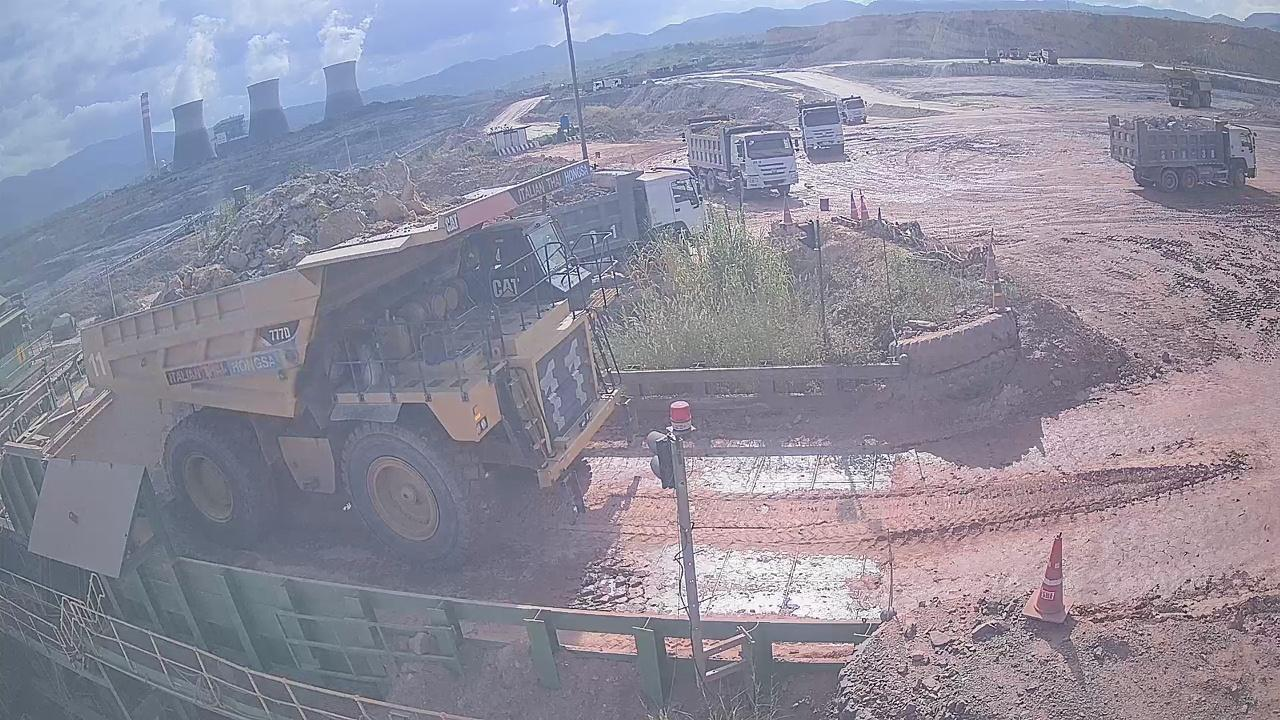company: (158, 350, 286, 384)
dumping_soil: (74, 150, 631, 577)
front_number: (536, 314, 600, 447)
full_load: (126, 157, 441, 287)
tail_number: (80, 352, 114, 380)
truck_size: (254, 321, 302, 347)
